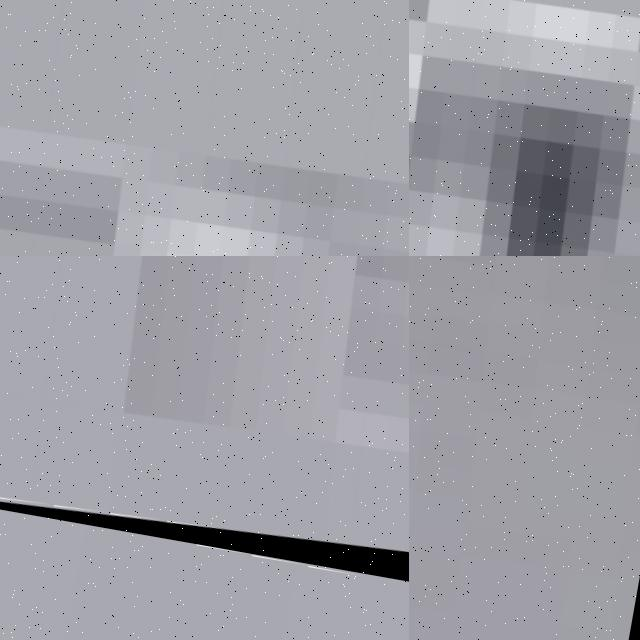drone: (0, 256, 409, 589), (0, 0, 409, 256), (409, 256, 640, 640), (409, 0, 640, 256)
